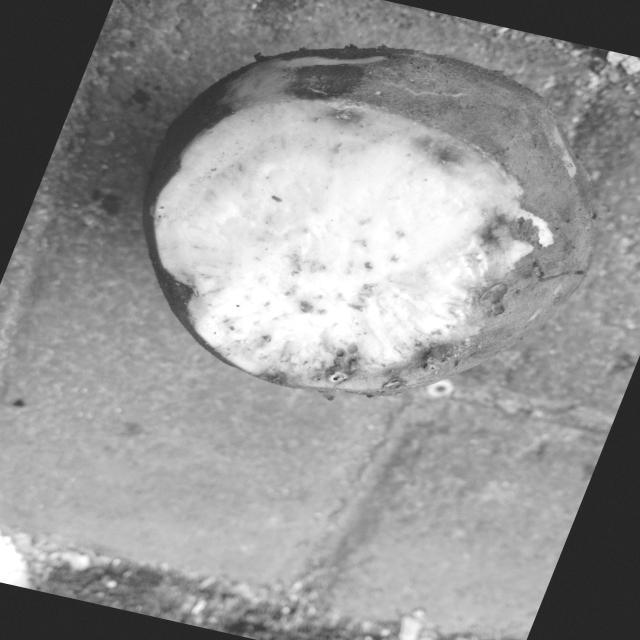Sick Sweet Potato_Tuber Rot: (153, 101, 532, 391)
